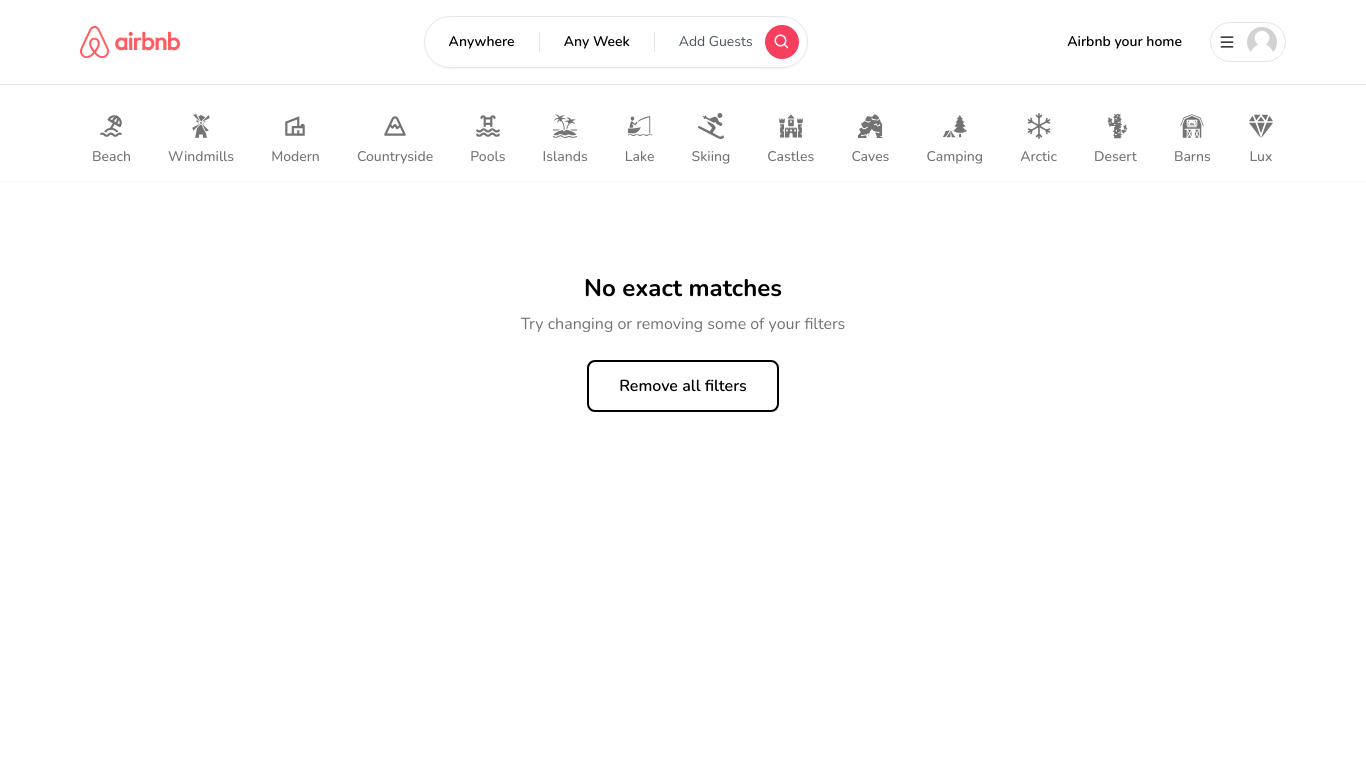
Unauthenticated User Functionality › Should not be able to create new property
This screenshot has width=1366, height=768.
Click the text with test id "create-property-menu-item" at (1125, 42), box left=1067, top=32, right=1182, bottom=51
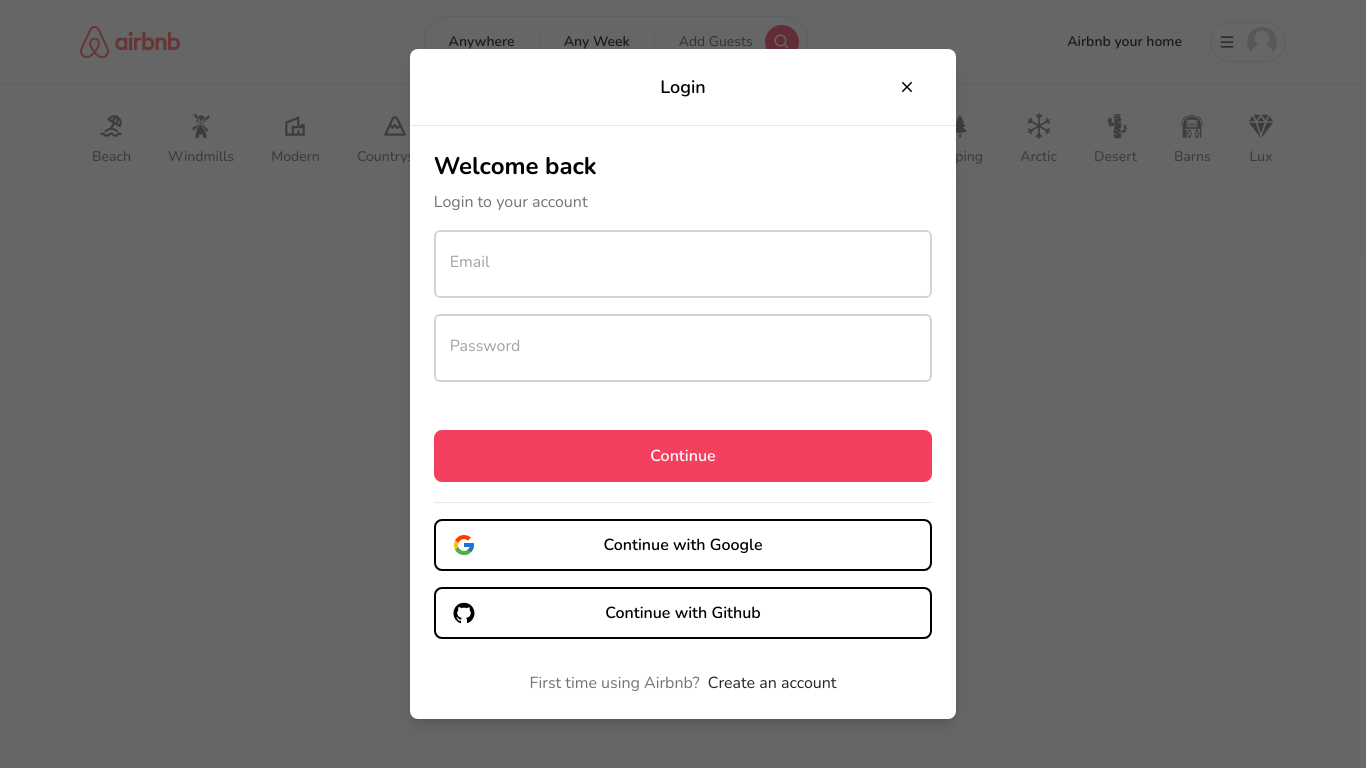
Check: the element with test id "login-modal" is shown
